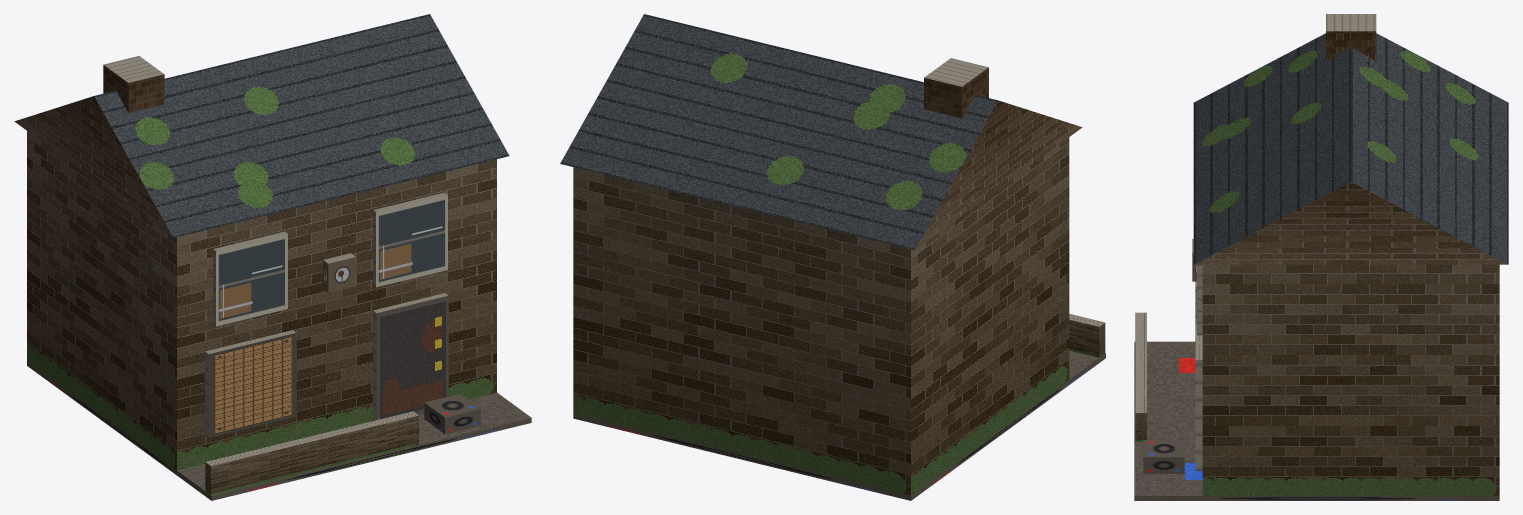
Rendered from building_croydon_traphouse.glb.
3 renders of one model, left to right at view 1: azimuth 30°, elevation 25°; view 2: azimuth 150°, elevation 25°; view 3: azimuth 270°, elevation 25°, orthographic. The views are drawn at different scales.
Visible parts, largest first — view 1: Building_Croydon_Traphouse; view 2: Building_Croydon_Traphouse; view 3: Building_Croydon_Traphouse.
Part boxes in pixels (left/top/right/bottom): Building_Croydon_Traphouse: left=14, top=14, right=531, bottom=500; Building_Croydon_Traphouse: left=560, top=14, right=1105, bottom=500; Building_Croydon_Traphouse: left=1134, top=14, right=1508, bottom=500.
Bounding box in the file's own units: 8.4 × 8.2 × 8.2.
1 material, 1 textured.
